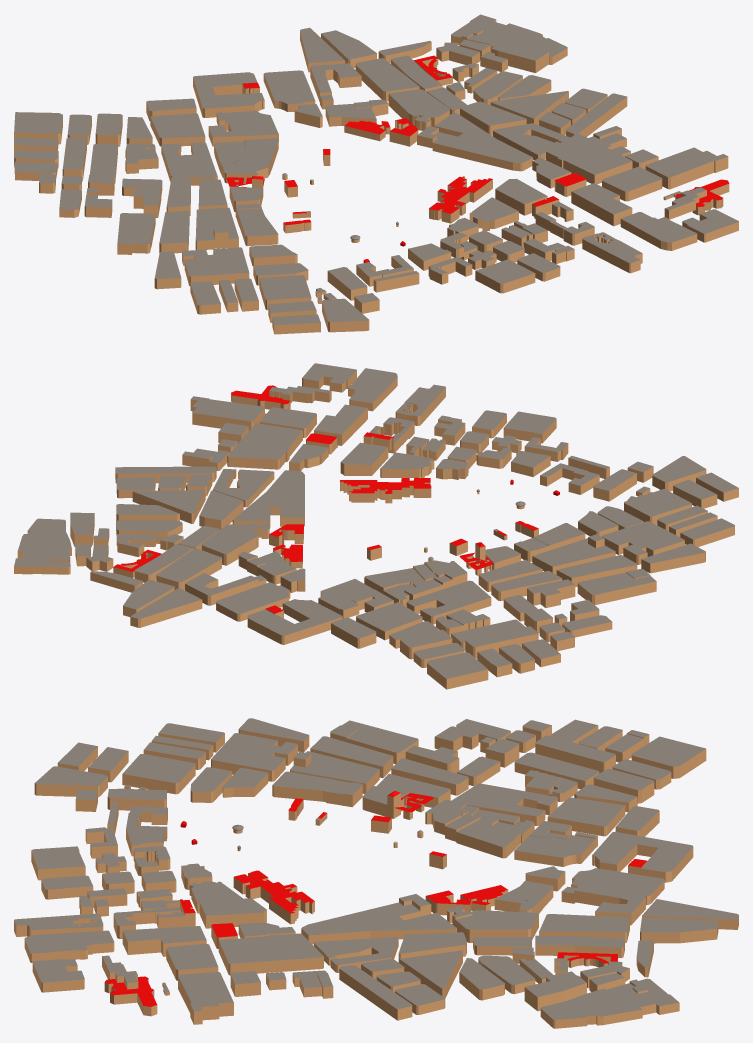
File: albacete_map_5.osm_buildings.dae
The picture shows the model from 3 angles, top to bottom: view 1: azimuth 30°, elevation 25°; view 2: azimuth 150°, elevation 25°; view 3: azimuth 270°, elevation 25°; orthographic projection. The views are drawn at different scales.
Visible parts, largest first — view 1: map_5.osm_buildings; view 2: map_5.osm_buildings; view 3: map_5.osm_buildings.
Boxes of the visible parts, left/top/right/bottom form: map_5.osm_buildings: left=14, top=14, right=738, bottom=334; map_5.osm_buildings: left=14, top=363, right=738, bottom=689; map_5.osm_buildings: left=14, top=718, right=738, bottom=1028.
Bounding box in the file's own units: 969 × 985 × 47.81.
